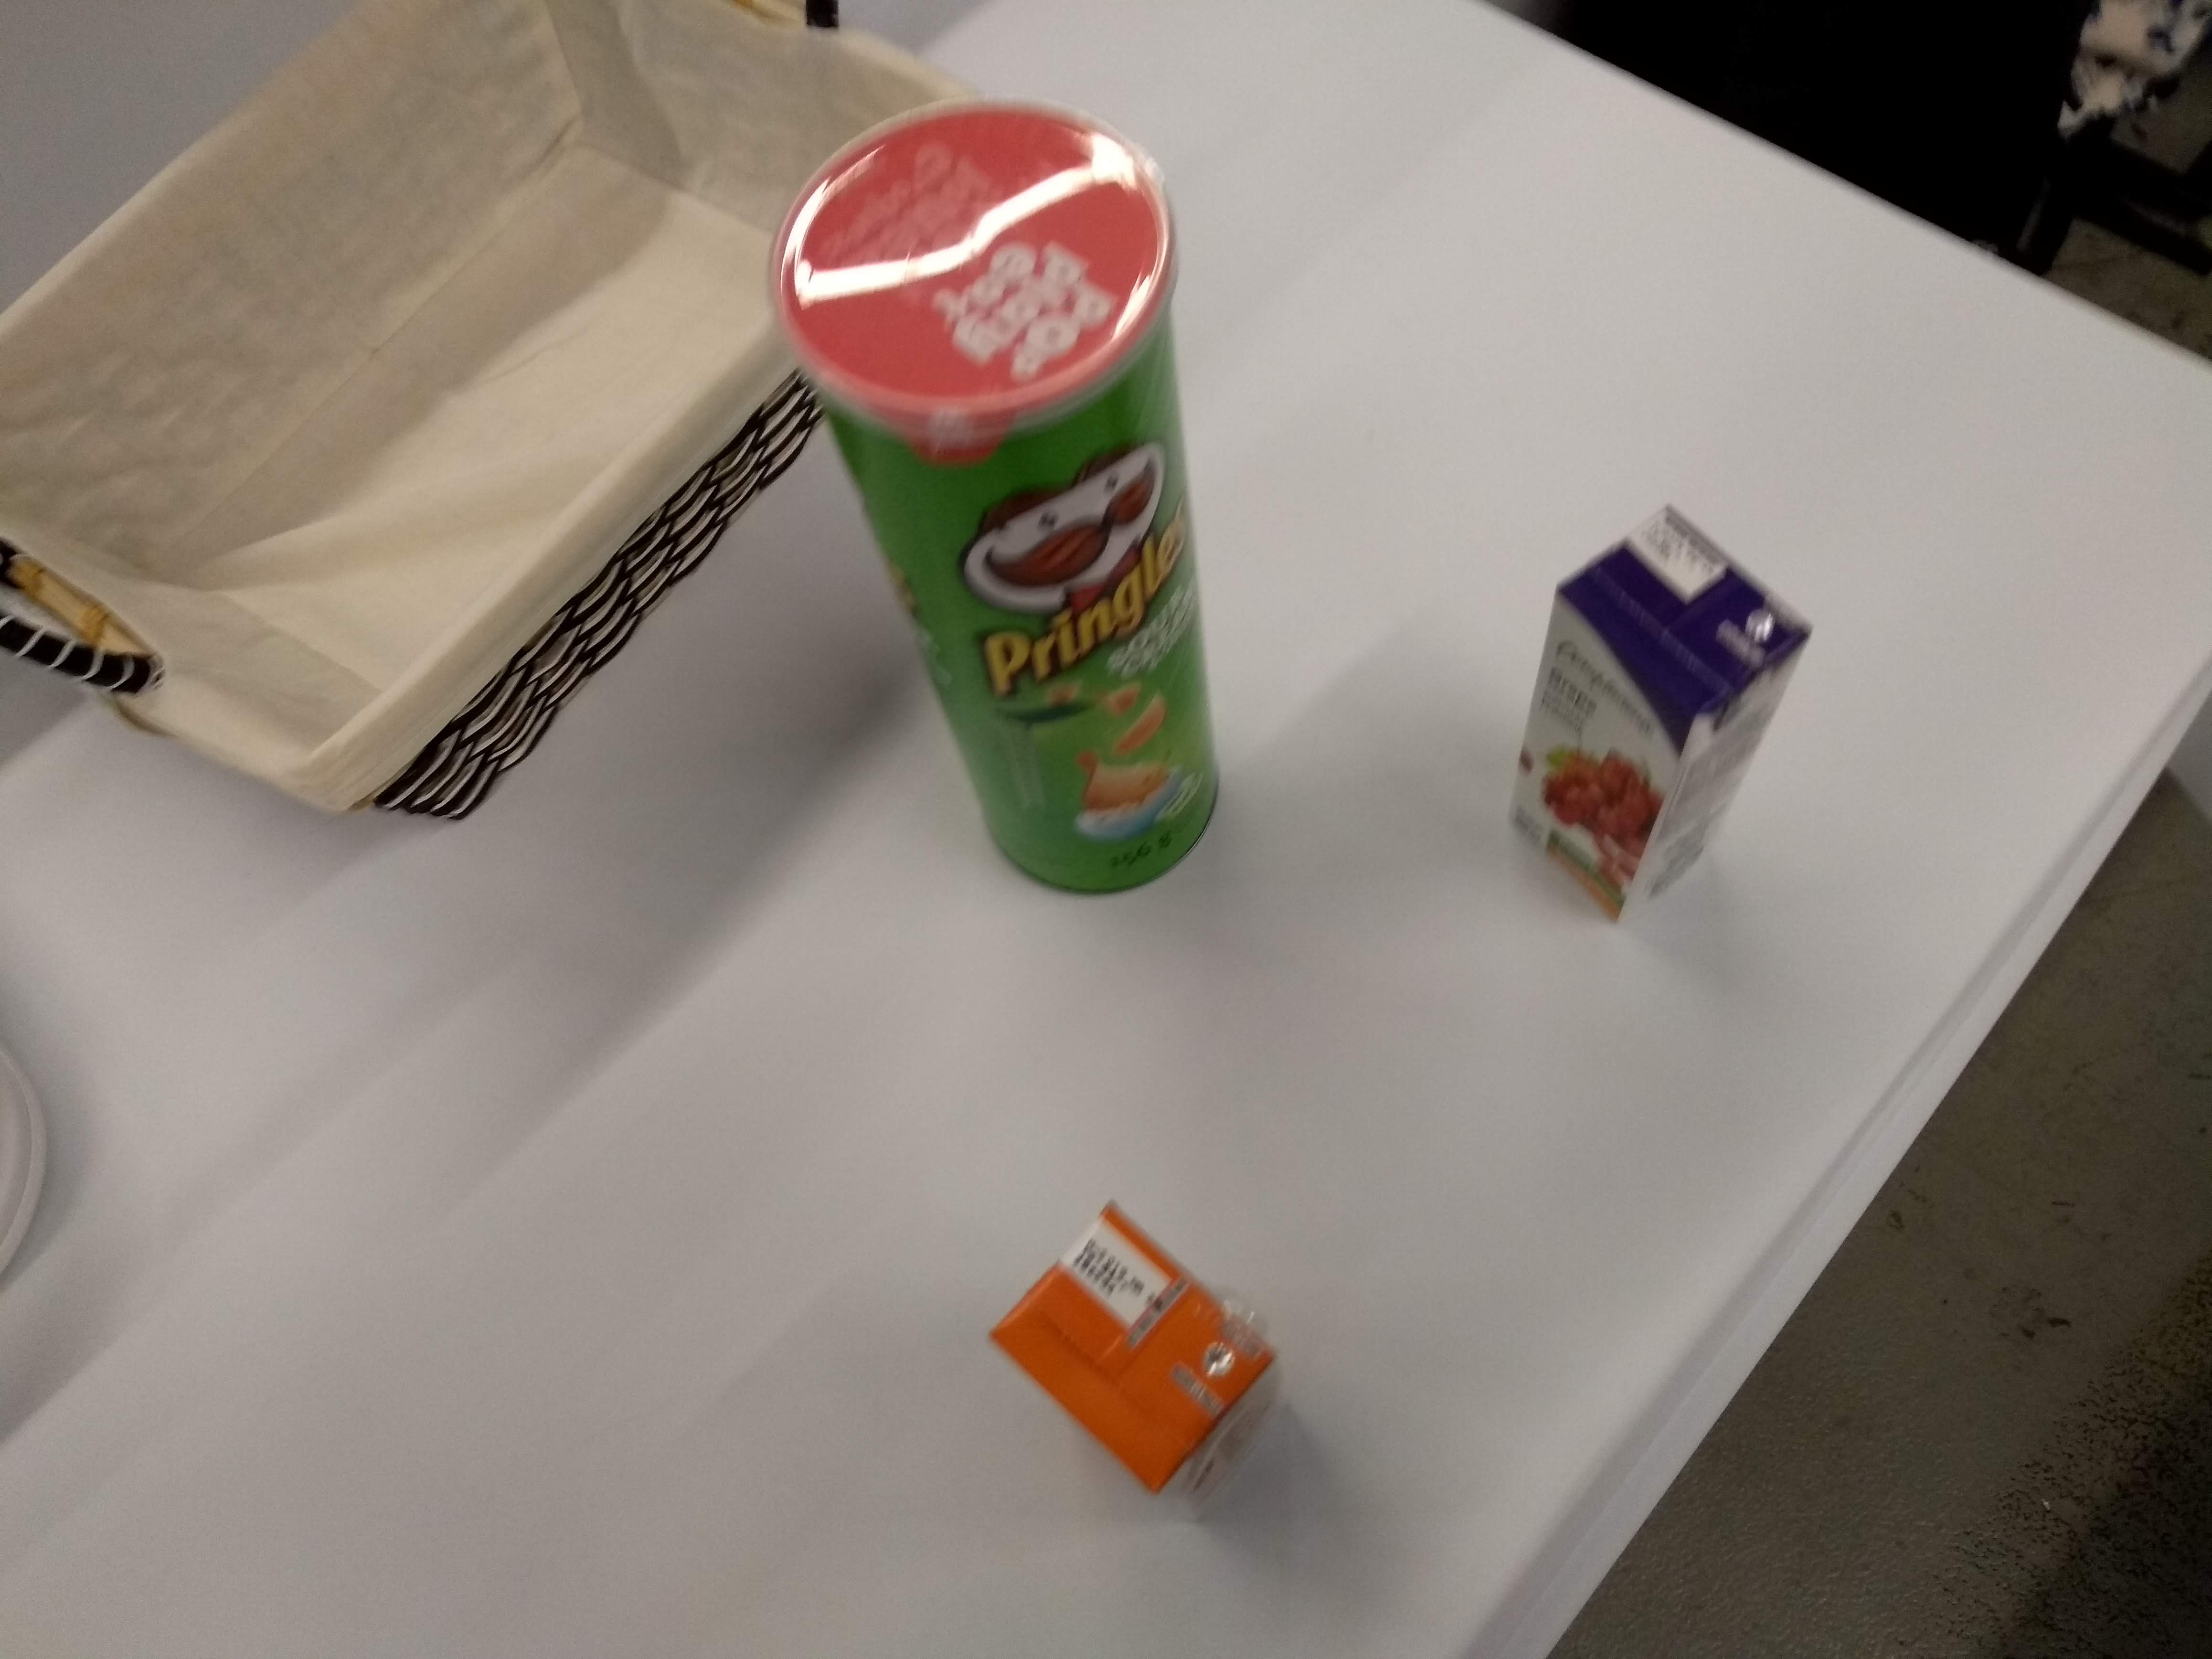grape_juice: (1493, 493, 1825, 939)
orange_juice: (977, 1197, 1305, 1518)
pringles: (749, 82, 1235, 915)
